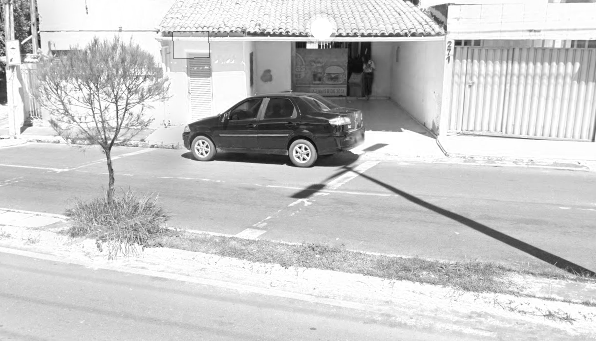car: (178, 89, 380, 177)
